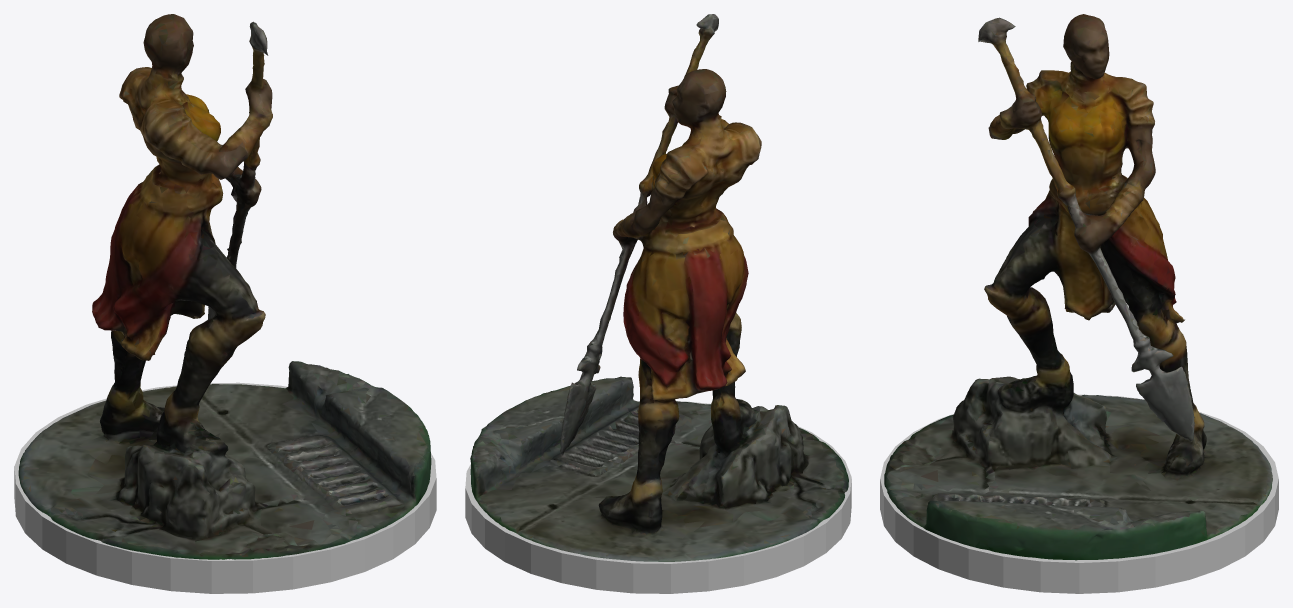
3 views of the same model, side by side, from view 1: azimuth 30°, elevation 25°; view 2: azimuth 150°, elevation 25°; view 3: azimuth 270°, elevation 25° (orthographic). The views are drawn at different scales.
Parts seen in each view (by area): view 1: Okoye, default; view 2: Okoye, default; view 3: Okoye, default.
Boxes of the visible parts, box(x1,y1,x2,y2) form: Okoye: box(18, 14, 431, 559); default: box(14, 382, 436, 593); Okoye: box(470, 14, 848, 561); default: box(465, 401, 851, 593); Okoye: box(884, 14, 1272, 560); default: box(880, 394, 1278, 593).
Bounding box in the file's own units: 1.38 × 1.85 × 1.38.
Materials: 2 (1 with a texture image).
